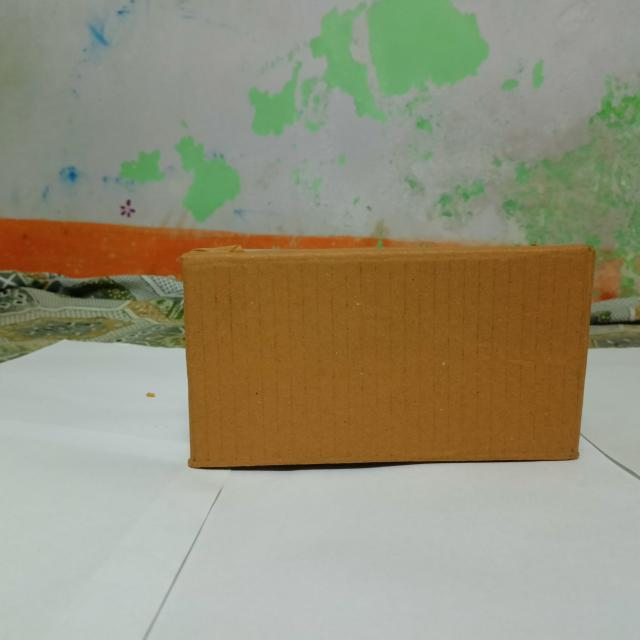box: (187, 260, 578, 466)
